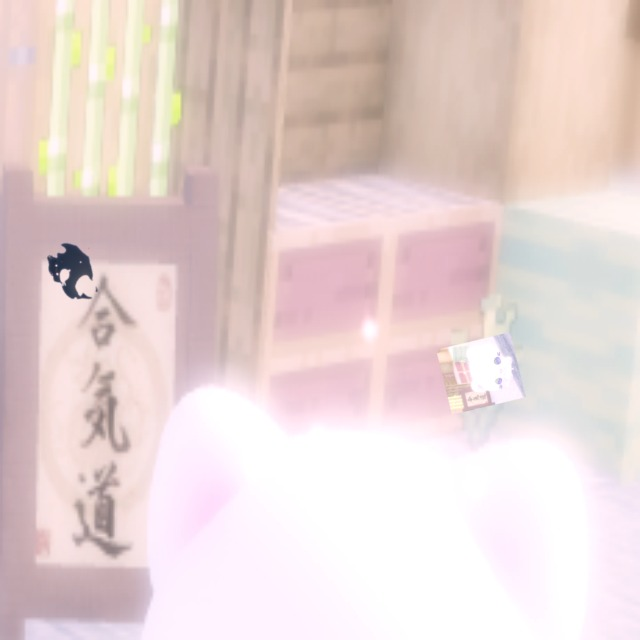urso_branco: (436, 332, 526, 415)
urso_preto: (33, 225, 113, 319)
